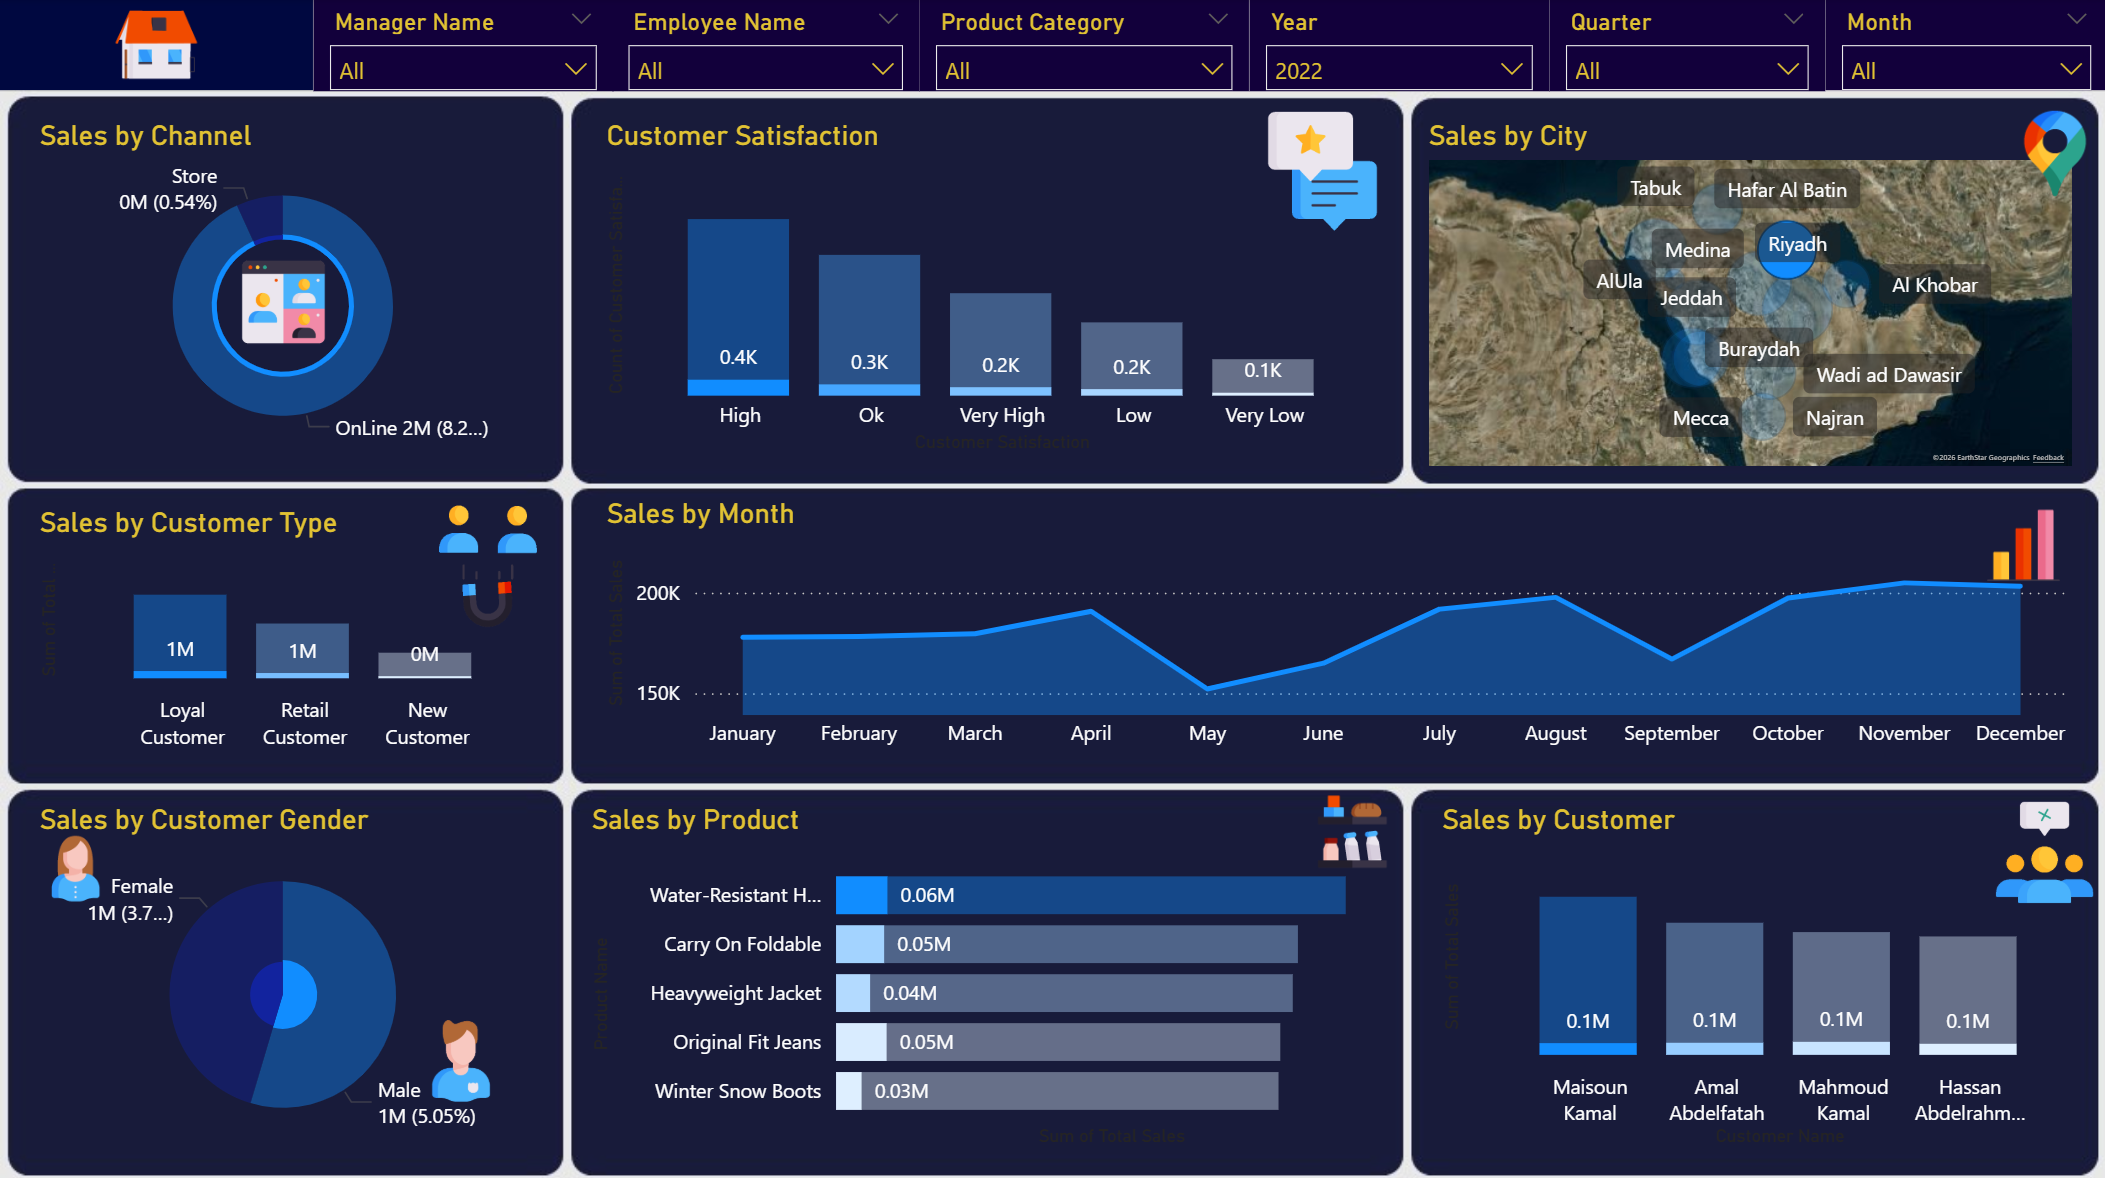

Layout of this report page (visuals, bound fields, positions):
{"tool":"powerbi","page":{"name":"Page ١","canvas":[1280,720],"ordinal":0},"visuals":[{"type":"azureMap","title":"Sales by City","fields":{"Category":["Sales Data.City"],"Size":["Sum(Sales Data.Total Sales)"]},"box":[861.9,73.3,400.5,215.7],"z":0},{"type":"donutChart","title":"Sales by Channel","fields":{"Category":["Sales Data.Channel"],"Y":["Sum(Sales Data.Total Sales)"]},"box":[19.1,72.8,304.5,206.6],"z":1000},{"type":"clusteredColumnChart","title":"Customer Satisfaction","fields":{"Category":["Sales Data.Customer Satisfaction"],"Y":["CountNonNull(Sales Data.Customer Satisfaction)"]},"box":[363,72.8,472.8,206.6],"z":2000},{"type":"clusteredColumnChart","title":"Sales by Customer Type","fields":{"Category":["Sales Data.Customer Type"],"Y":["Sum(Sales Data.Total Sales)"]},"box":[19.1,308.1,304.5,155.2],"z":3000},{"type":"lineChart","title":"Sales by Month","fields":{"Category":["Sales Data.Invoice Date.Variation.Date Hierarchy.Month"],"Y":["Sum(Sales Data.Total Sales)"]},"box":[363.4,302.5,899.1,161],"z":4000},{"type":"pieChart","title":"Sales by Customer Gender","fields":{"Category":["Sales Data.Customer Gender"],"Y":["Sum(Sales Data.Total Sales)"]},"box":[19.1,488.4,304.5,212.5],"z":5000},{"type":"clusteredBarChart","title":"Sales by Product","fields":{"Category":["Sales Data.Product Name"],"Y":["Sum(Sales Data.Total Sales)"]},"box":[354,488.2,493,212.7],"z":6000},{"type":"clusteredColumnChart","title":"Sales by Customer","fields":{"Category":["Sales Data.Customer Name"],"Y":["Sum(Sales Data.Total Sales)"]},"box":[870.4,488.4,391.6,212.5],"z":7000},{"type":"slicer","fields":{"Values":["Sales Data.Manager Name"]},"box":[189.9,0,181.7,55.7],"z":8000},{"type":"slicer","fields":{"Values":["Sales Data.Employee Name"]},"box":[371.6,0,186.8,55.7],"z":9000},{"type":"slicer","fields":{"Values":["Sales Data.Product Category"]},"box":[558.5,0,200.3,55.7],"z":10000},{"type":"slicer","fields":{"Values":["Sales Data.Invoice Date.Variation.Date Hierarchy.Quarter"]},"box":[940.4,0,167.2,55.7],"z":11000},{"type":"slicer","fields":{"Values":["Sales Data.Invoice Date.Variation.Date Hierarchy.Year"]},"box":[758.7,0,181.7,55.7],"z":12000},{"type":"slicer","fields":{"Values":["Sales Data.Invoice Date.Variation.Date Hierarchy.Month"]},"box":[1108,0,171.6,55.6],"z":13000},{"type":"image","box":[1194.3,302.5,67.1,57.8],"z":14000},{"type":"image","box":[242.6,614.2,75.4,61.9],"z":15000},{"type":"image","box":[11.4,501.7,70.2,51.6],"z":16000},{"type":"image","box":[758.7,38.2,88.8,129],"z":17000},{"type":"image","box":[1217,64,61.9,58.8],"z":18000},{"type":"image","box":[791.7,476.9,55.7,57.8],"z":19000},{"type":"image","box":[138.3,122.8,67.1,121.8],"z":20000},{"type":"image","box":[238.5,301.4,115.6,84.6],"z":21000},{"type":"image","box":[1202.6,476.9,76.4,77.4],"z":22000},{"type":"image","box":[0,0,189.7,55.6],"z":23000}]}

Visuals, with their boxes in screenshot pixels (x1, y1, x2, y2), scaled from the page's 1280x720 canvas onto the 2105x1178 screenshot:
"Sales by City" azureMap: [1417, 120, 2076, 473]
"Sales by Channel" donutChart: [31, 119, 532, 457]
"Customer Satisfaction" clusteredColumnChart: [597, 119, 1374, 457]
"Sales by Customer Type" clusteredColumnChart: [31, 504, 532, 758]
"Sales by Month" lineChart: [598, 495, 2076, 758]
"Sales by Customer Gender" pieChart: [31, 799, 532, 1147]
"Sales by Product" clusteredBarChart: [582, 799, 1393, 1147]
"Sales by Customer" clusteredColumnChart: [1431, 799, 2075, 1147]
slicer - Sales Data.Manager Name: [312, 0, 611, 91]
slicer - Sales Data.Employee Name: [611, 0, 918, 91]
slicer - Sales Data.Product Category: [918, 0, 1248, 91]
slicer - Sales Data.Invoice Date.Variation.Date Hierarchy.Quarter: [1547, 0, 1821, 91]
slicer - Sales Data.Invoice Date.Variation.Date Hierarchy.Year: [1248, 0, 1547, 91]
slicer - Sales Data.Invoice Date.Variation.Date Hierarchy.Month: [1822, 0, 2104, 91]
image: [1964, 495, 2074, 589]
image: [399, 1005, 523, 1106]
image: [19, 821, 134, 905]
image: [1248, 62, 1394, 274]
image: [2001, 105, 2103, 201]
image: [1302, 780, 1394, 875]
image: [227, 201, 338, 400]
image: [392, 493, 582, 632]
image: [1978, 780, 2103, 907]
image: [0, 0, 312, 91]
